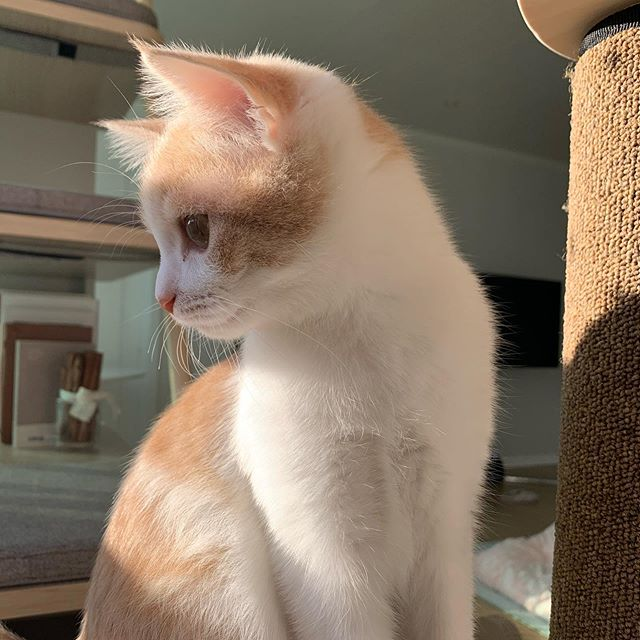cat: (95, 34, 426, 365)
